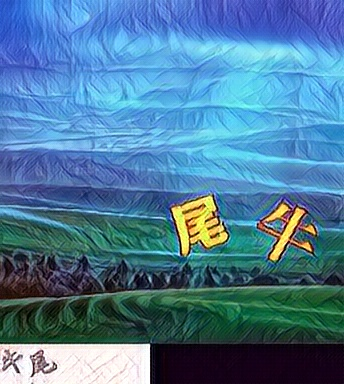C5A3: (250, 200, 315, 264)
CEB2: (166, 191, 231, 255)
